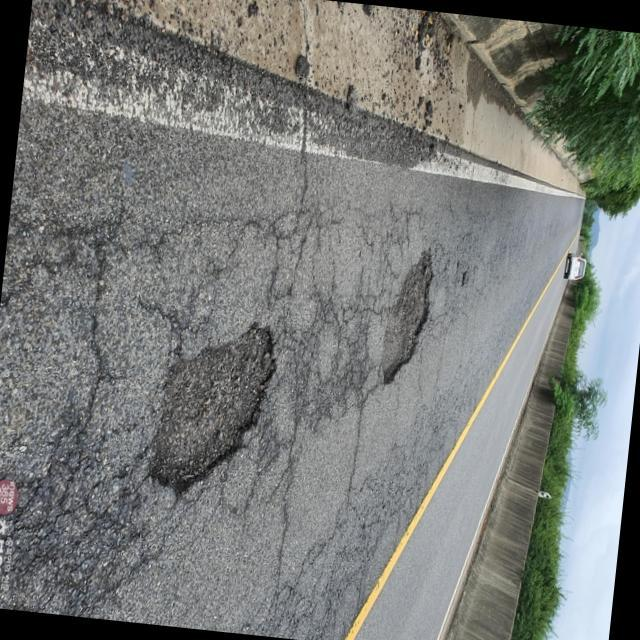pothole: (146, 290, 298, 530), (364, 242, 448, 396)
